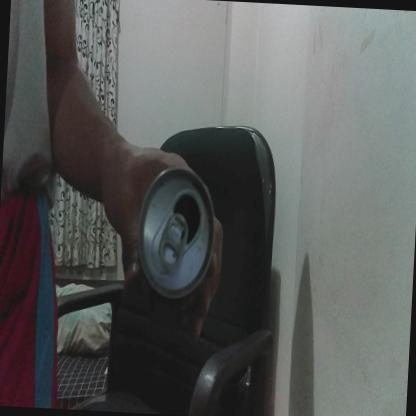alumunium_can: (132, 165, 216, 308)
